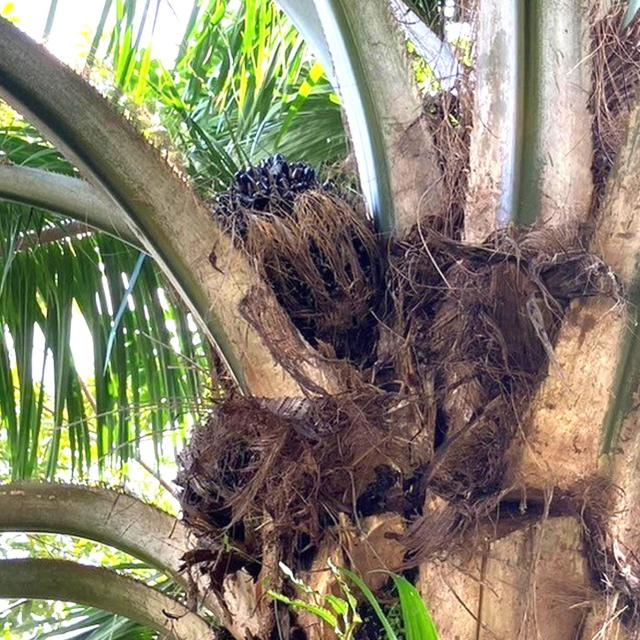unripe: (225, 157, 350, 300)
